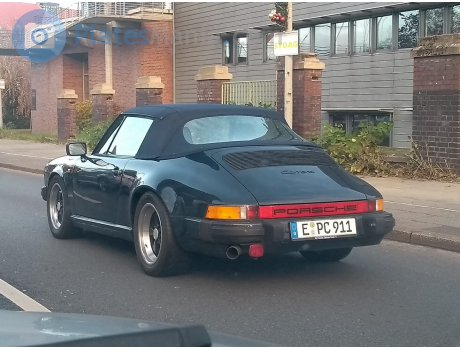License Plates: (298, 218, 352, 230)
